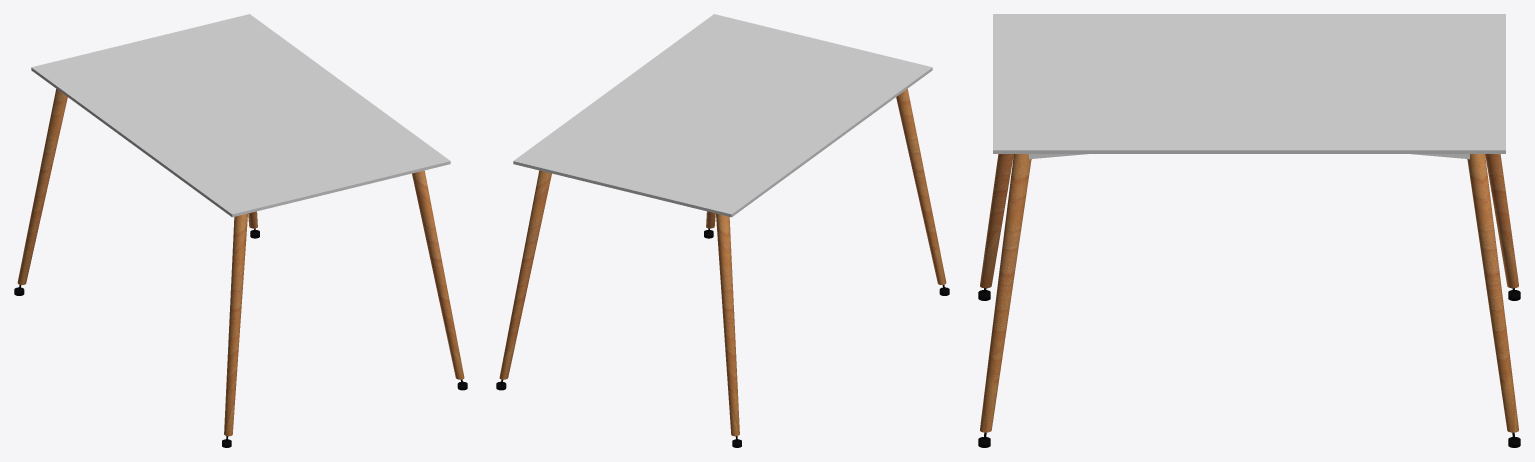
Rendered from meja putih.fbx.
3 views of the same model, side by side, from view 1: azimuth 30°, elevation 25°; view 2: azimuth 150°, elevation 25°; view 3: azimuth 270°, elevation 25° (orthographic). The views are drawn at different scales.
Visible parts, largest first — view 1: Cube.001, Cylinder; view 2: Cube.001, Cylinder; view 3: Cube.001, Cylinder.
Boxes of the visible parts, x1,y1,x2,y2 form: Cube.001: (31, 14, 450, 217); Cylinder: (17, 89, 464, 436); Cube.001: (513, 14, 932, 217); Cylinder: (499, 89, 946, 436); Cube.001: (993, 14, 1505, 153); Cylinder: (980, 154, 1518, 432).
Bounding box in the file's own units: 83.83 × 74.4 × 126.
Materials: 3 (1 with a texture image).
